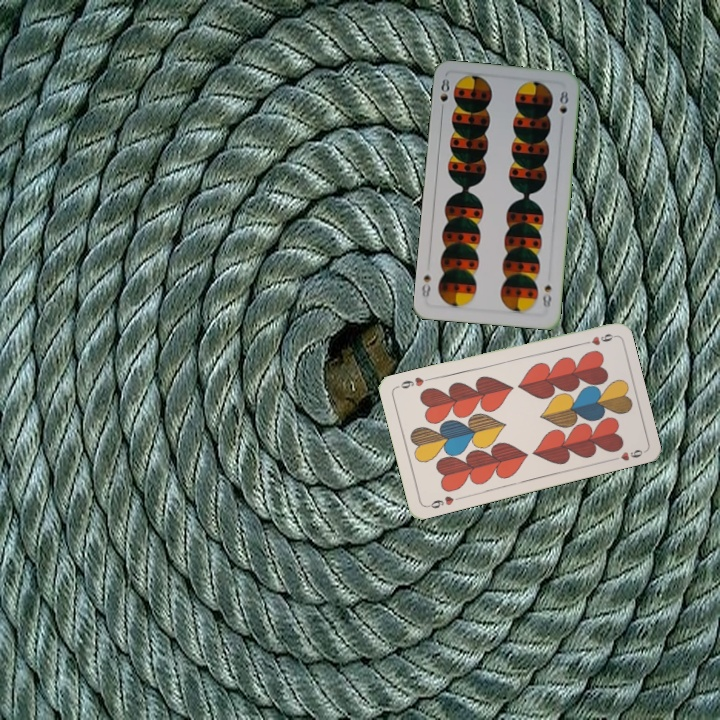H9: (423, 492, 463, 511), (576, 330, 616, 348)
S8: (436, 75, 452, 115), (538, 281, 554, 313)
